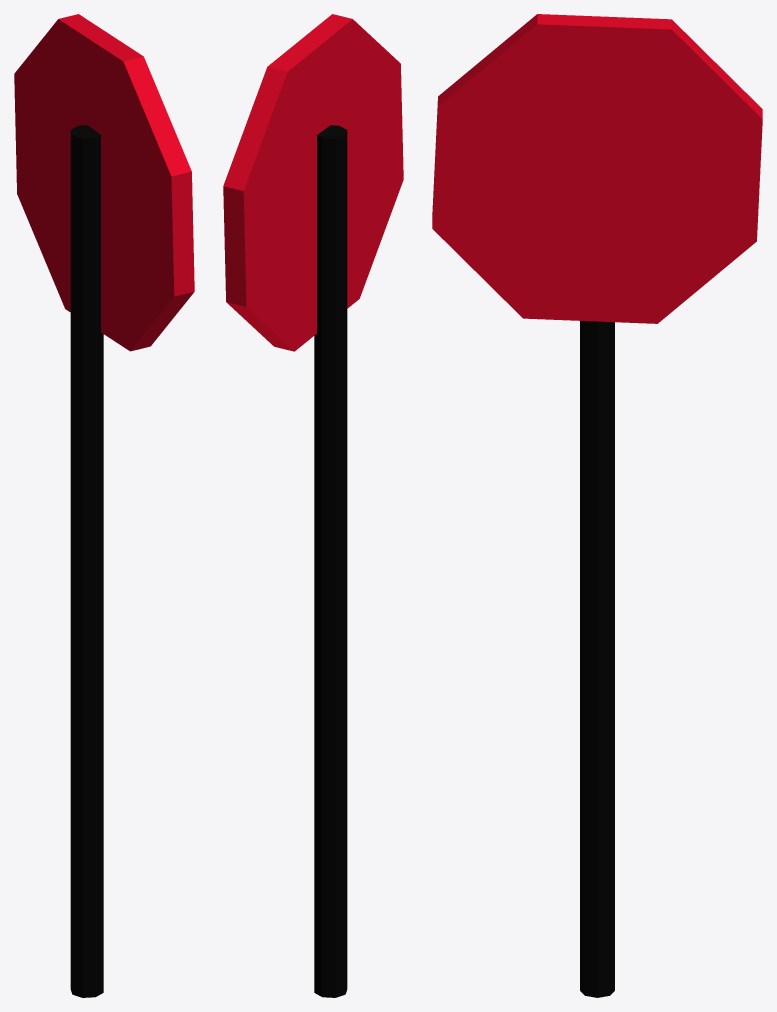
The model's file is sign.fbx.
The picture shows the model from 3 angles, left to right: view 1: azimuth 30°, elevation 25°; view 2: azimuth 150°, elevation 25°; view 3: azimuth 270°, elevation 25°; orthographic projection. The views are drawn at different scales.
Visible parts, largest first — view 1: Sign; view 2: Sign; view 3: Sign.
Part boxes in pixels (left/top/right/bottom): Sign: left=14, top=14, right=194, bottom=997; Sign: left=223, top=14, right=403, bottom=997; Sign: left=432, top=14, right=762, bottom=997.
Bounding box in the file's own units: 0.1436 × 3.07 × 0.9397.
